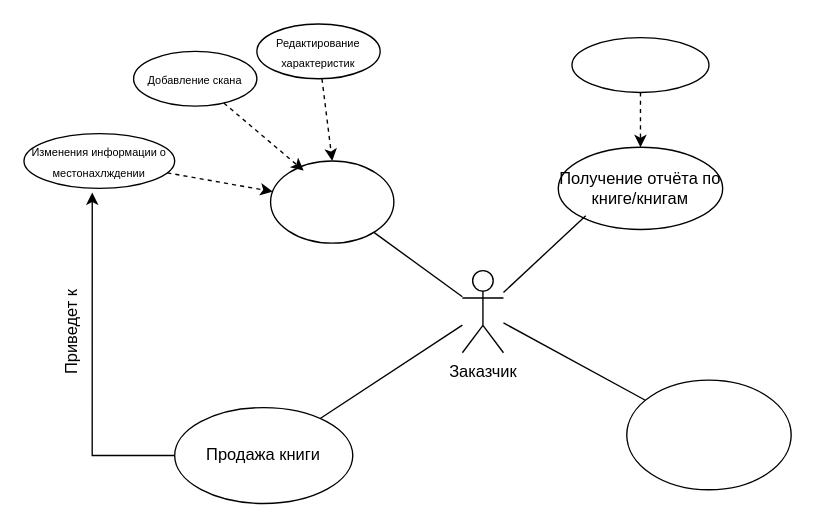
Image size: 815x527. Some labels were removed from this diagram. Here are the shapes that lost their labels. From the top down, the box of each, then its label:
(571, 36, 709, 92): Сортировка по характеристикам
(269, 160, 394, 243): Добавление книг
(625, 379, 791, 490): Просмотр всего каталога целиком
